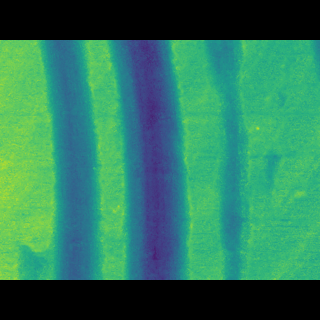Loch: (104, 68, 190, 250), (35, 69, 103, 250), (201, 69, 260, 250)
